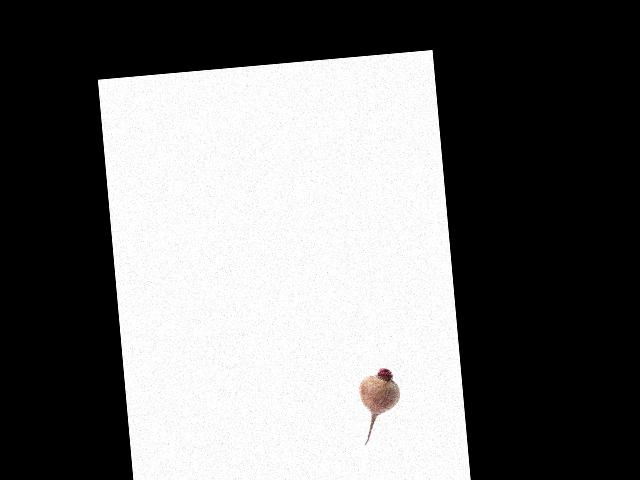beet: (357, 367, 405, 444)
